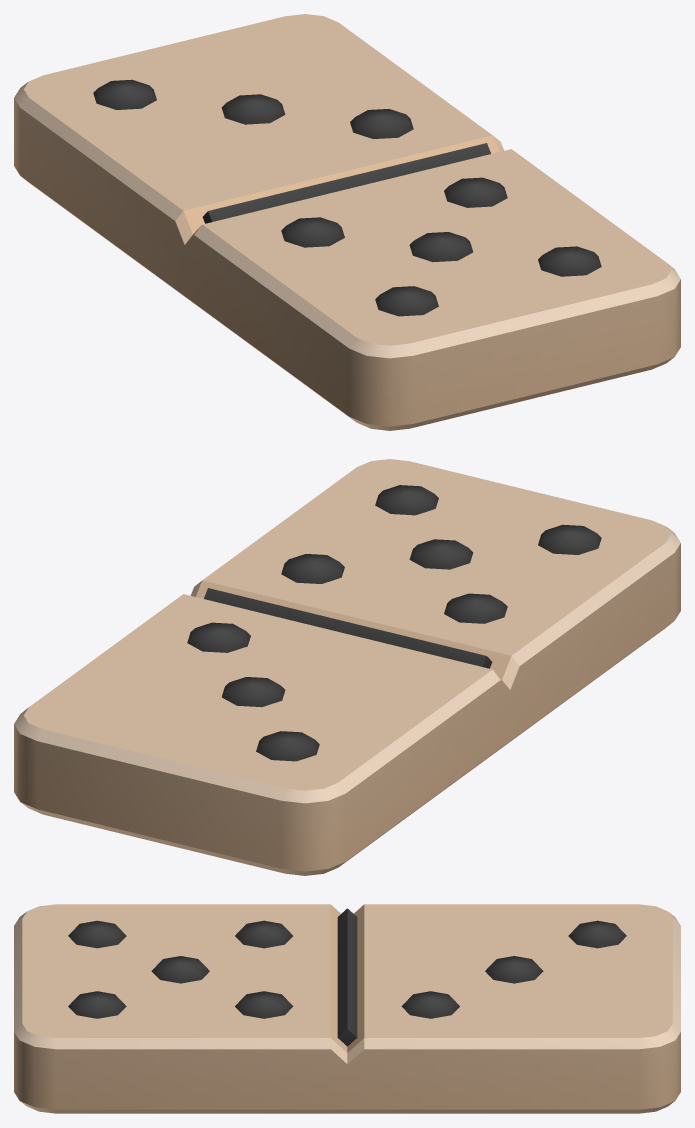
File: domino-tile-3-5.glb
The picture shows the model from 3 angles, top to bottom: view 1: azimuth 30°, elevation 25°; view 2: azimuth 150°, elevation 25°; view 3: azimuth 270°, elevation 25°; orthographic projection. The views are drawn at different scales.
Parts seen in each view (by area): view 1: domino_tile_3-5; view 2: domino_tile_3-5; view 3: domino_tile_3-5.
Part boxes in pixels (left/top/right/bottom): domino_tile_3-5: left=14, top=14, right=680, bottom=430; domino_tile_3-5: left=14, top=459, right=680, bottom=875; domino_tile_3-5: left=14, top=904, right=680, bottom=1113.
Bounding box in the file's own units: 1 × 0.2767 × 2.
Materials: 1 (1 with a texture image).
